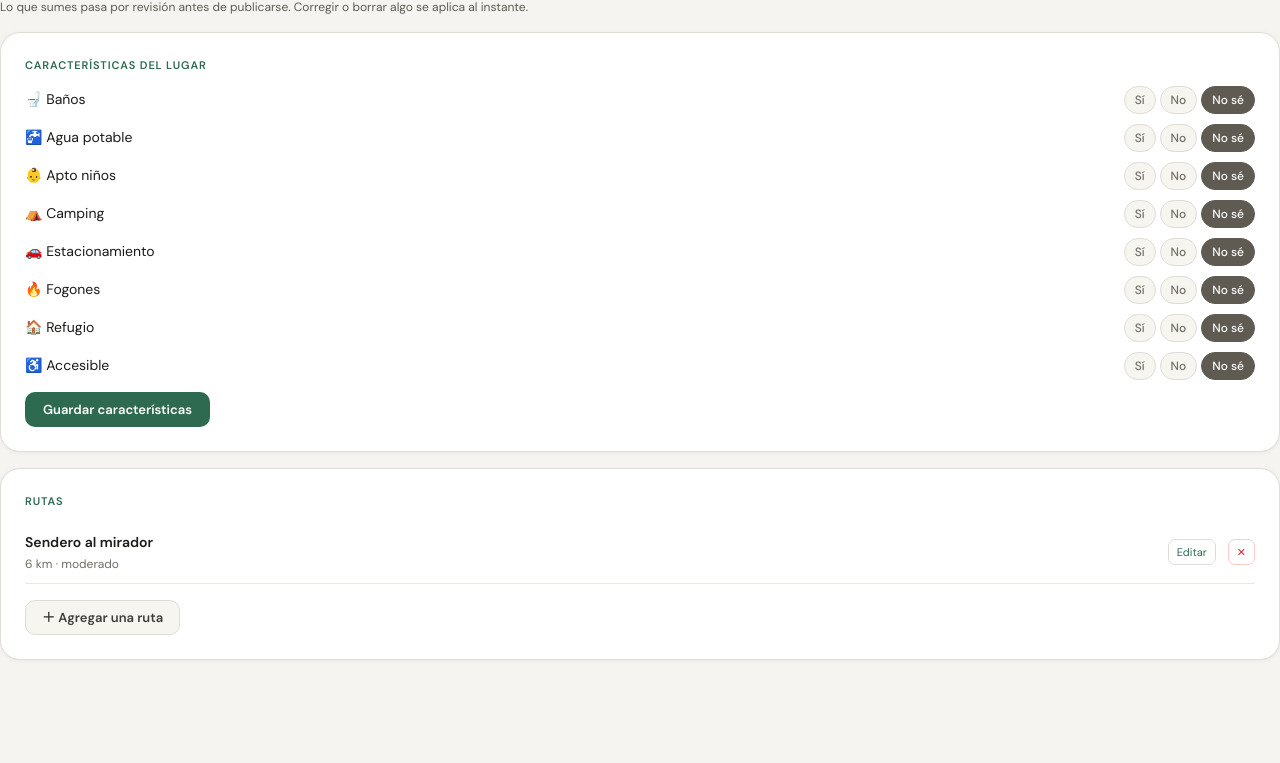
Test: ContentTab: corregir lo ya cargado (al instante) › editar una ruta manda solo sus datos y cierra el formulario
Click the button with aria-label "Editar Sendero al mirador" at [1192, 552], box 1168,539 -> 1216,565
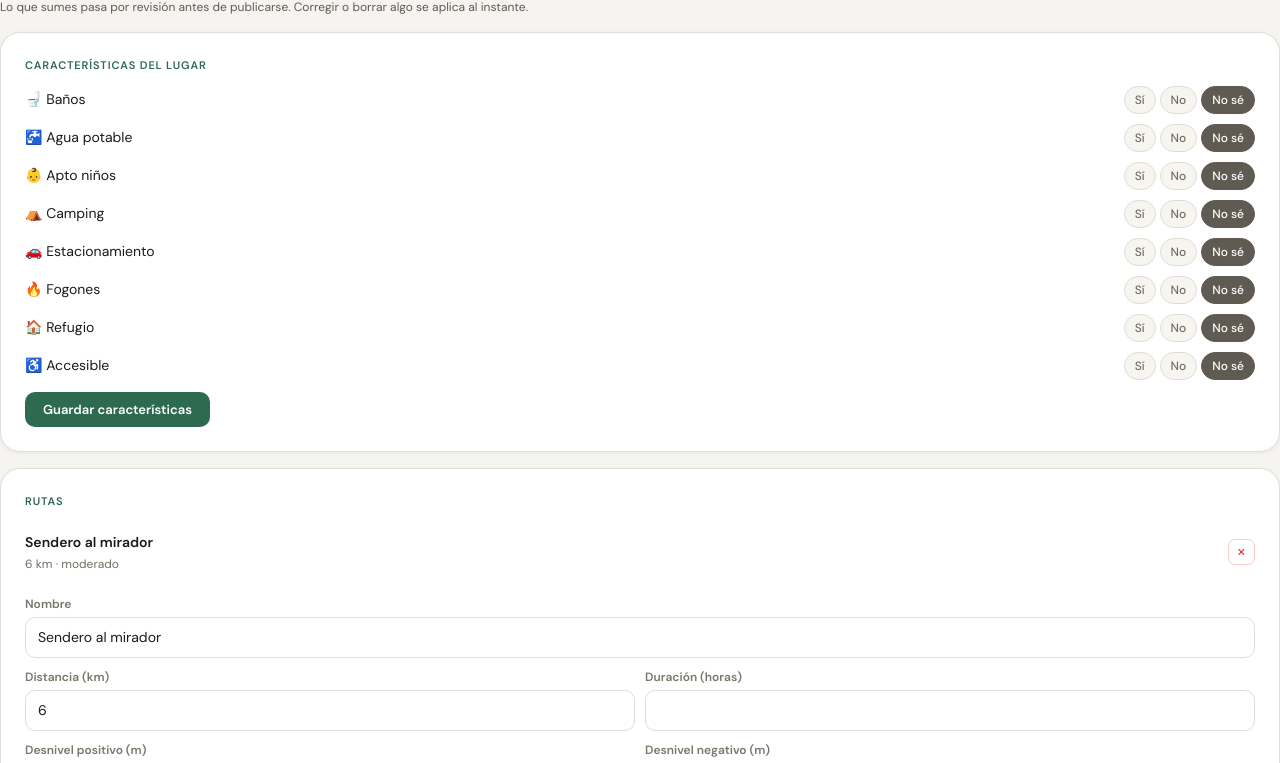
Replace the text in the number field labelled "Distancia (km)" with "7.5" at [330, 710], box 25,690 -> 635,730
(page scrolled)
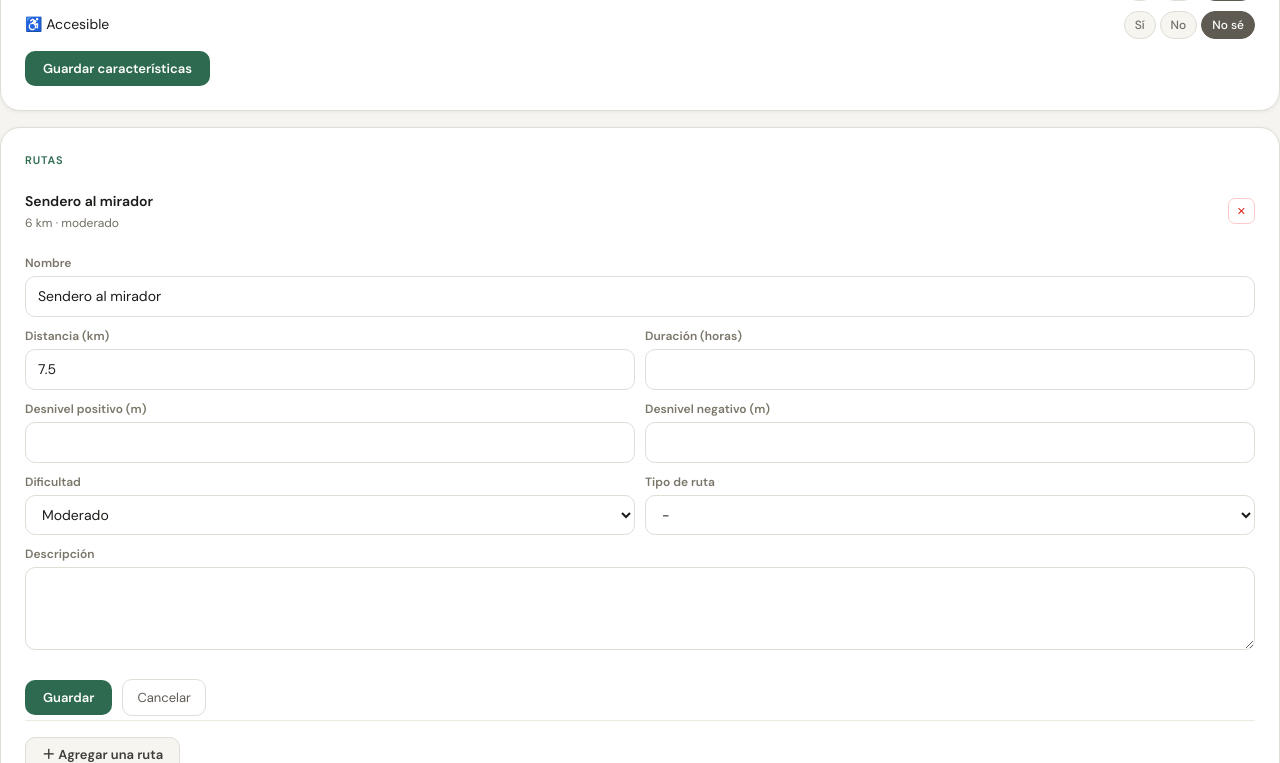
Click the button "Guardar" at [69, 697], box 25,680 -> 112,715
(page scrolled)
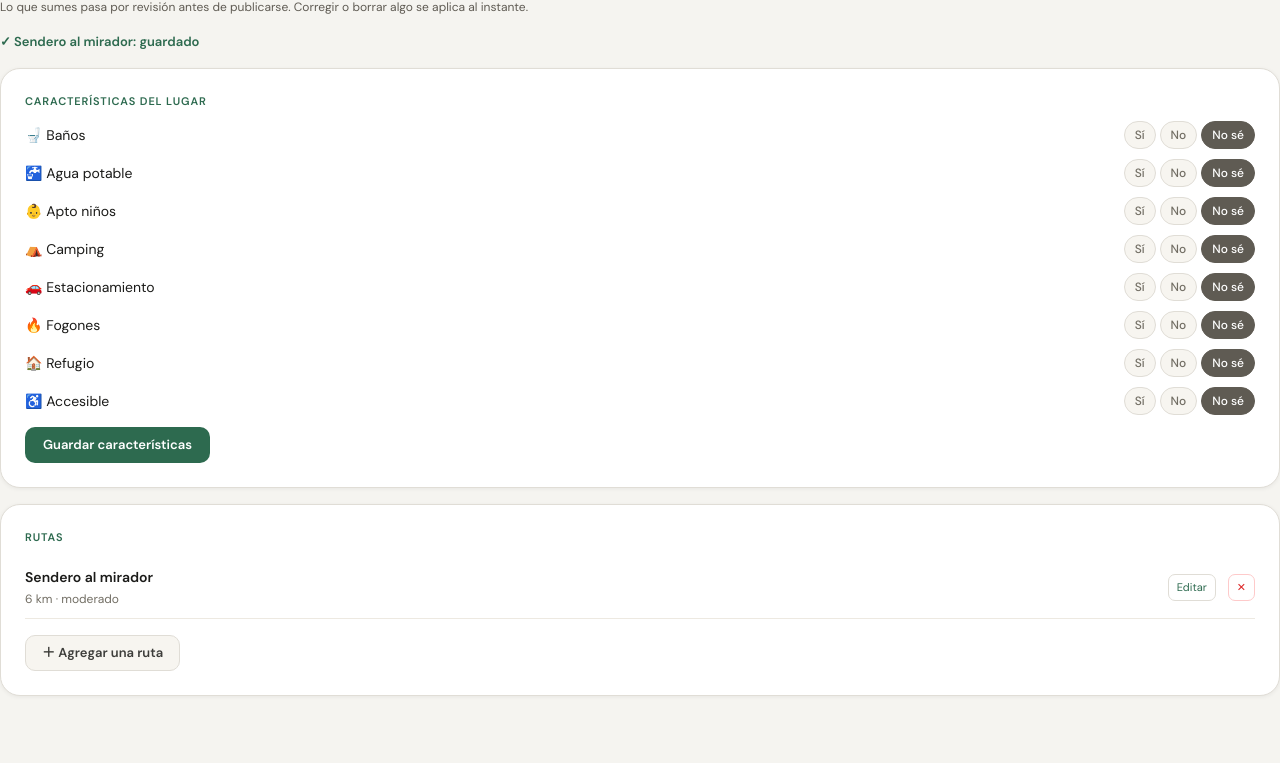
expect the text "✓ Sendero al mirador: guardado" is shown: met, box 0,33 -> 200,50
expect the label labelled "Distancia (km)" is gone: met
